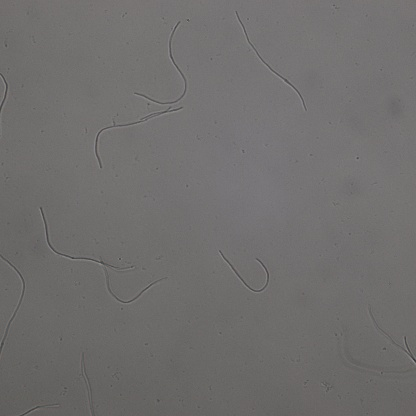Sensitive: (237, 12, 306, 110), (94, 107, 184, 168), (41, 209, 130, 270), (134, 21, 188, 105), (100, 258, 167, 304), (369, 305, 416, 362), (1, 255, 26, 354), (221, 251, 270, 293), (22, 403, 56, 415)
